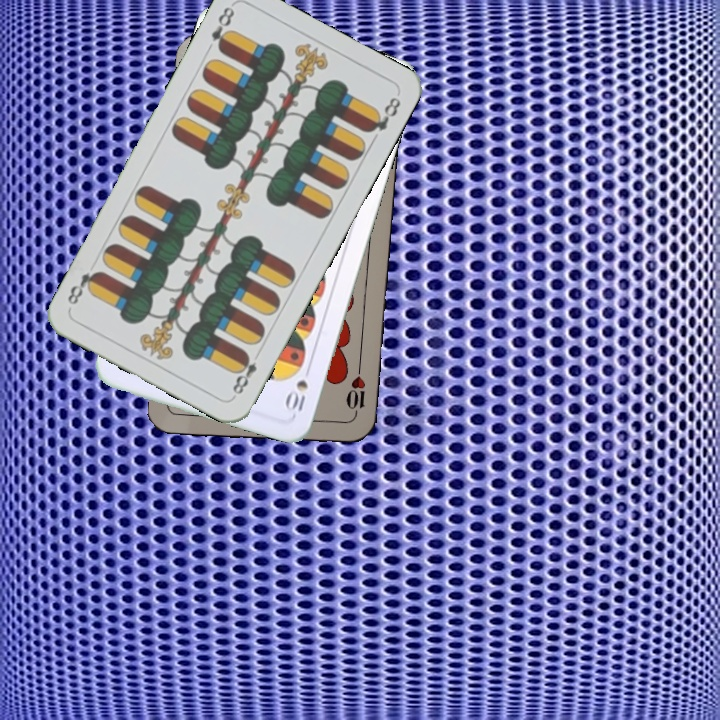E8: (206, 2, 237, 55), (228, 349, 260, 400)
H10: (342, 362, 369, 421)
S10: (282, 375, 311, 418)
